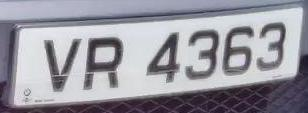3: (182, 23, 223, 85), (254, 18, 288, 77)
4: (142, 26, 186, 90)
6: (219, 17, 256, 81)
R: (79, 30, 128, 93)
V: (36, 30, 85, 96)
